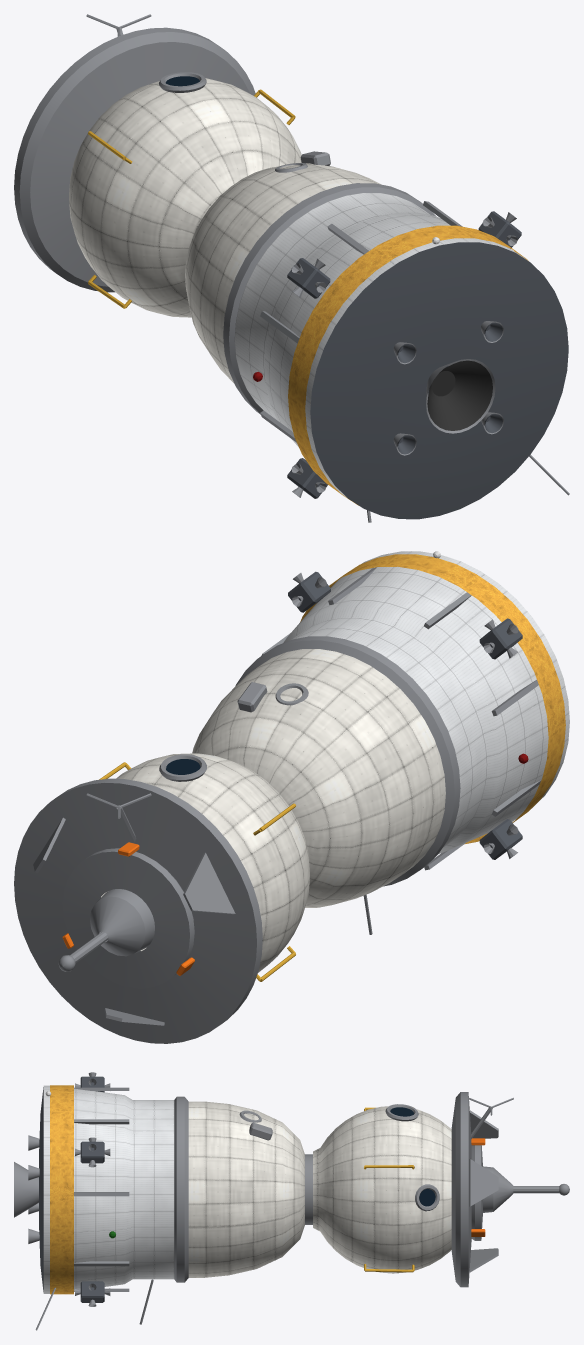
File: pod.obj
3 views of the same model, one above another, from view 1: azimuth 30°, elevation 25°; view 2: azimuth 150°, elevation 25°; view 3: azimuth 270°, elevation 25° (orthographic). The views are drawn at different scales.
Parts seen in each view (by area): view 1: pod; view 2: pod; view 3: pod.
Part boxes in pixels (x1,y1,x2,y2): pod: (14,14,569,522); pod: (14,551,569,1043); pod: (14,1072,569,1330).
Size of the model in its own units: 2.75 by 3.21 by 6.93.
13 materials, 4 textured.
